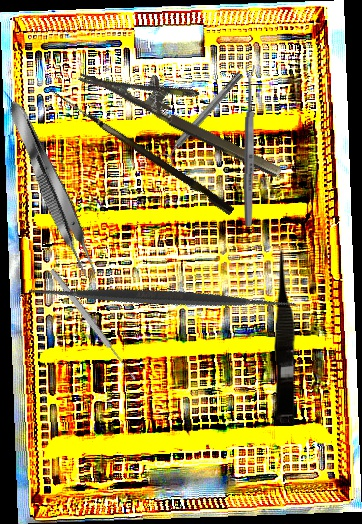Fixation Ring: (154, 67, 249, 170)
Hook Surgical: (42, 87, 237, 216)
Micro Scissor: (272, 245, 300, 427)
Needle Holder: (77, 40, 296, 181)
Spatula Surgical: (18, 153, 307, 443)
Surgical Spoon: (48, 267, 138, 383), (242, 64, 257, 227)
Tissue Forceps: (1, 95, 104, 282)
